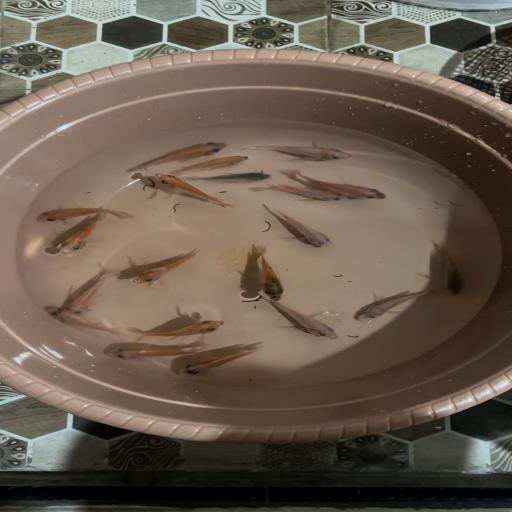nila: (287, 166, 400, 206), (262, 298, 344, 346), (169, 342, 265, 382), (124, 138, 230, 174), (123, 245, 203, 291), (150, 171, 236, 213), (352, 283, 439, 324), (45, 214, 114, 260), (54, 267, 120, 313), (125, 314, 233, 342), (272, 208, 339, 252), (40, 304, 126, 336), (24, 201, 138, 225), (258, 139, 362, 165), (244, 243, 288, 303), (105, 339, 208, 364), (247, 181, 352, 204), (438, 239, 474, 301), (171, 154, 254, 176), (185, 170, 276, 184)
